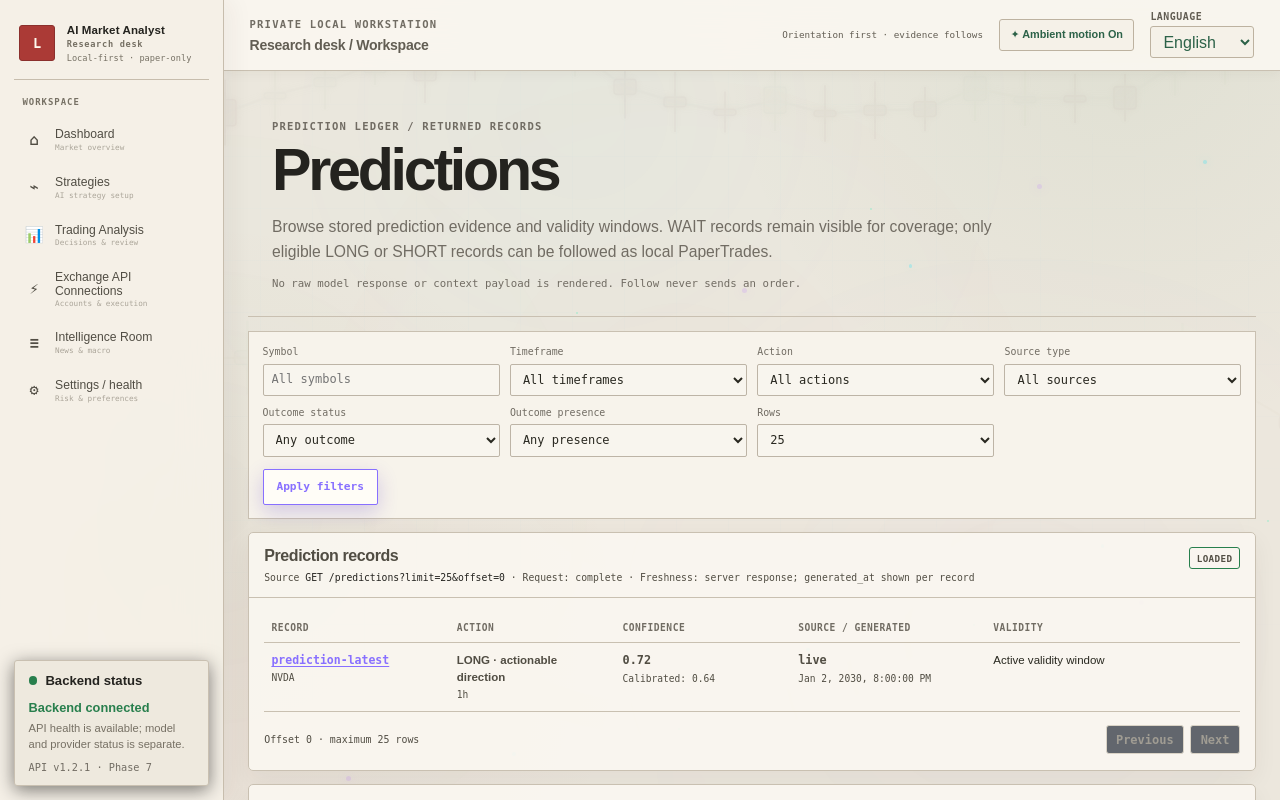
PredictionsPage › shows structured Follow failures without exposing a generic success state
The width and height of the screenshot is (1280, 800).
Click the button "prediction-latest": coordinates (330, 661) 271,652 -> 389,669
(page scrolled)
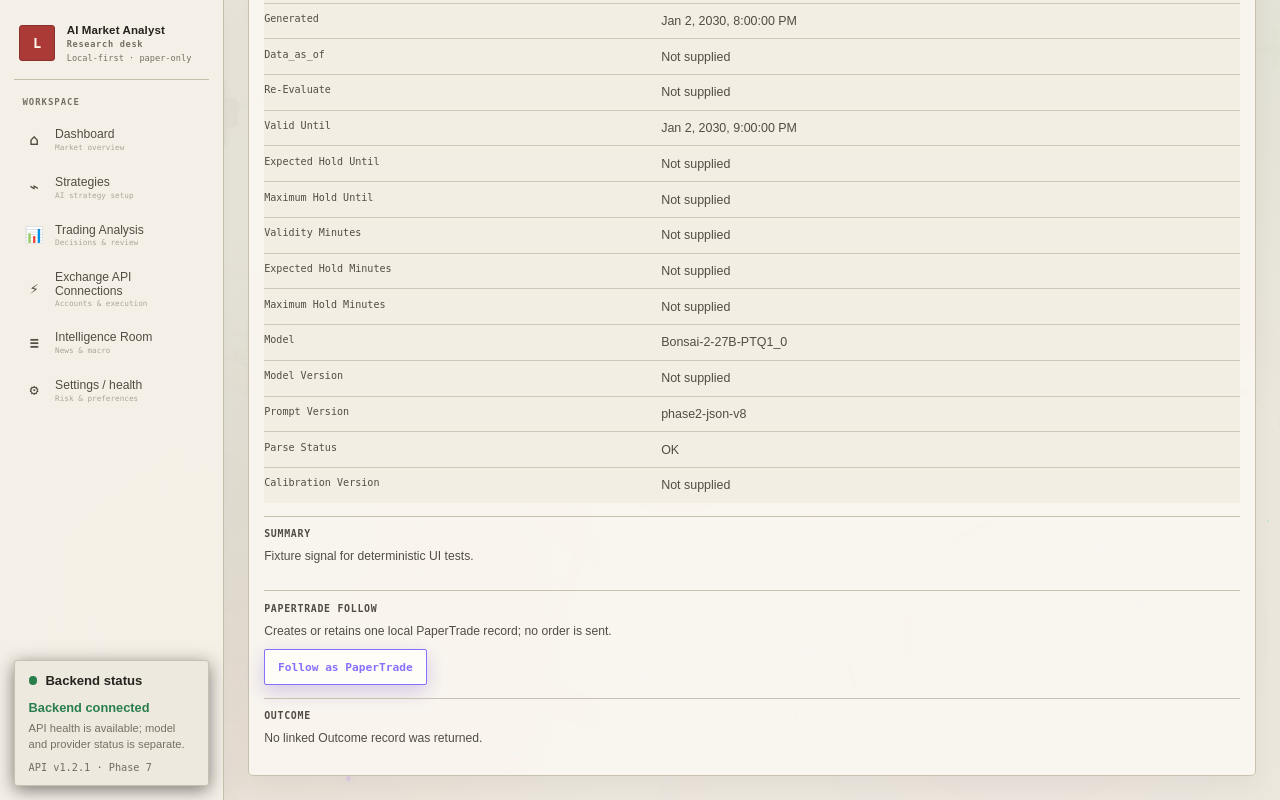
Click the button "Follow as PaperTrade": coordinates (345, 667) 264,650 -> 426,685
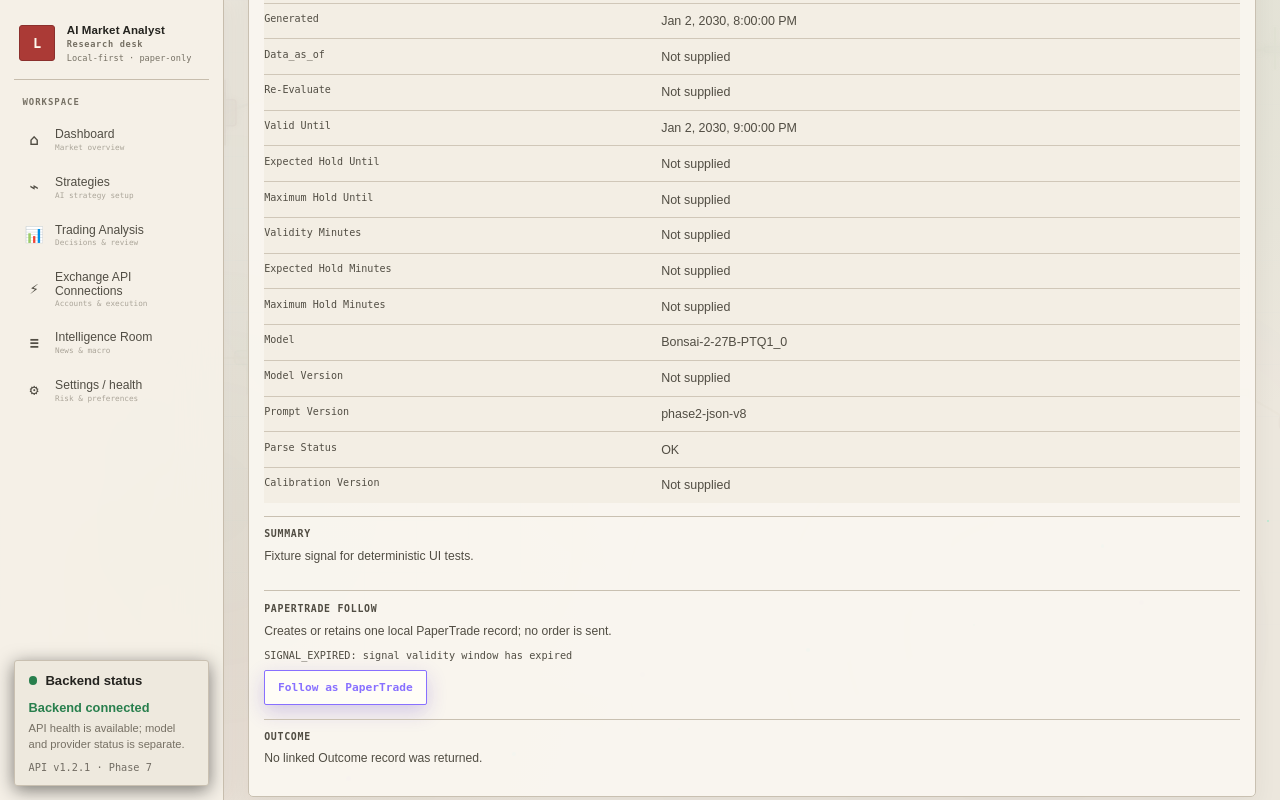
Check: the message "SIGNAL_EXPIRED: signal validity window has expired" is shown, box 264,650 -> 572,662
